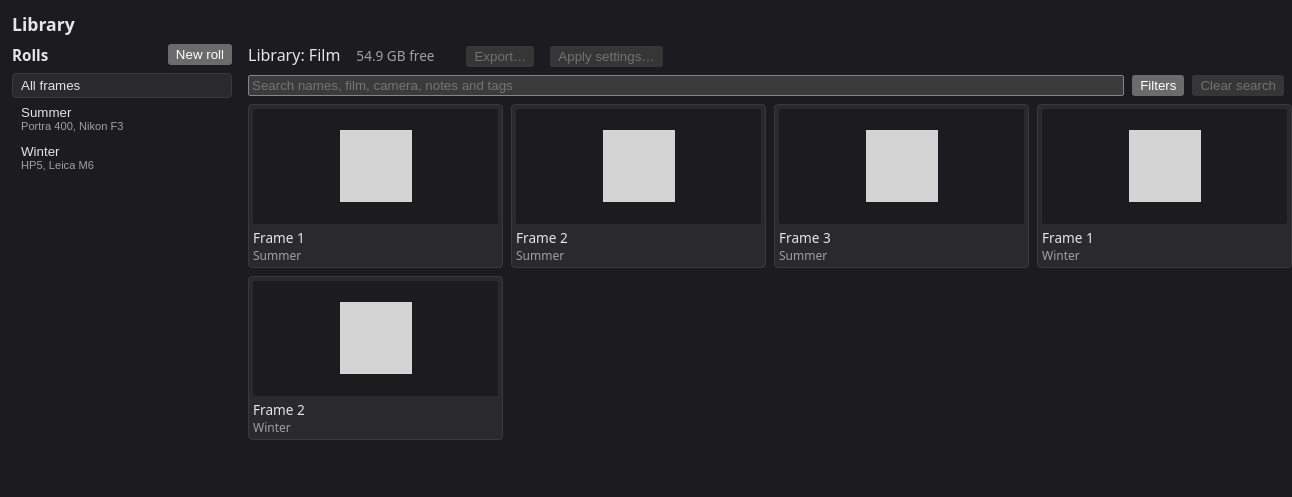
Scenario: search, filters and tags in the Library view › tagging the selected frames › appears with a selection and adds a tag to every selected frame
Click the cell "Frame 1 Summer" at x=376, y=186, box [248,104,503,268]
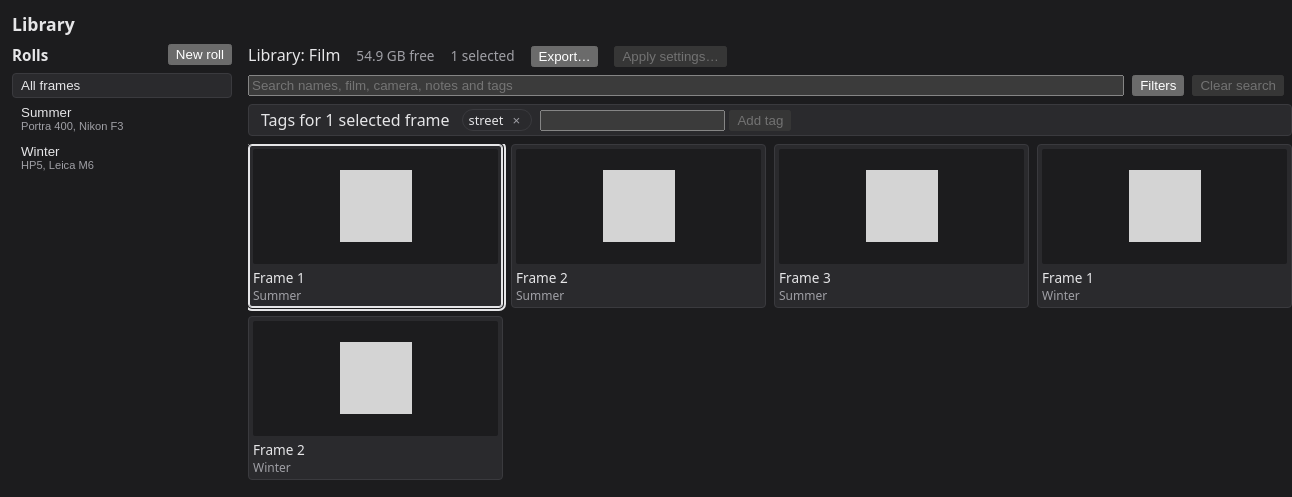
Type keys "{Control>}"
Click the cell "Frame 2 Summer" at x=638, y=226, box [511,144,766,308]
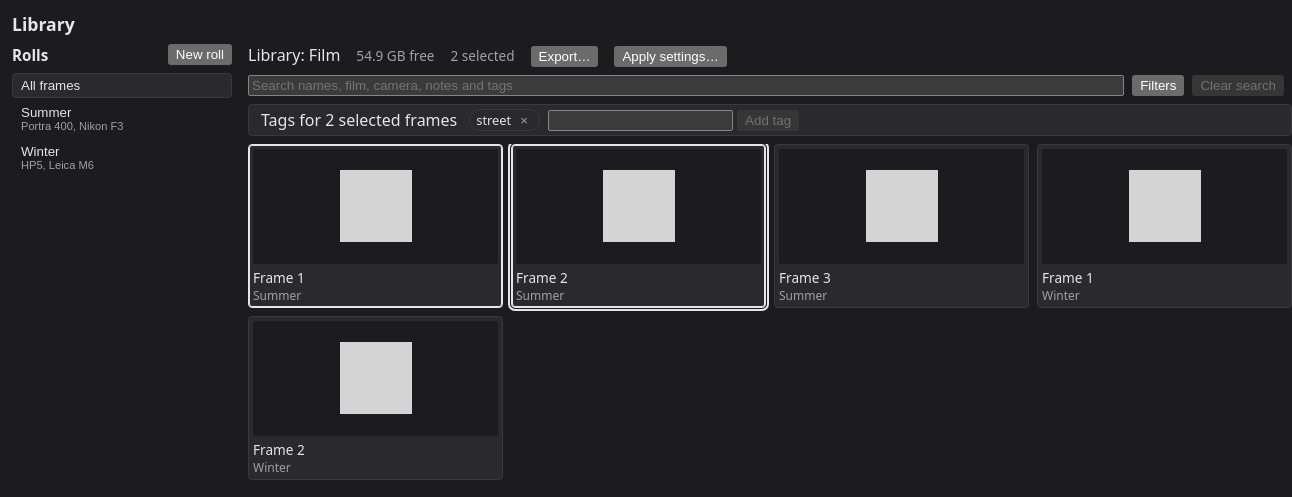
Type keys "{/Control}"
Now the text "Tags for 2 selected frames" is shown, box [261,109,457,131]
Now the text "street" is shown, box [476,111,511,129]
Type "Night market" into the field named "Tag the selected frames" at x=641, y=120, box [548,110,733,130]
Then press Enter
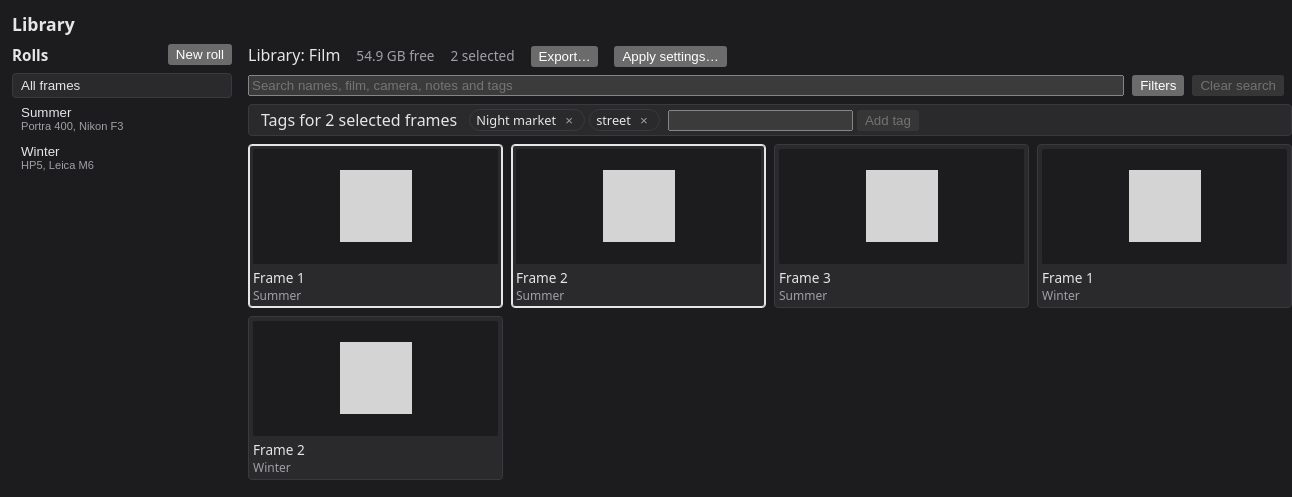
Now the text "Night market" is shown, box [476,111,556,129]
